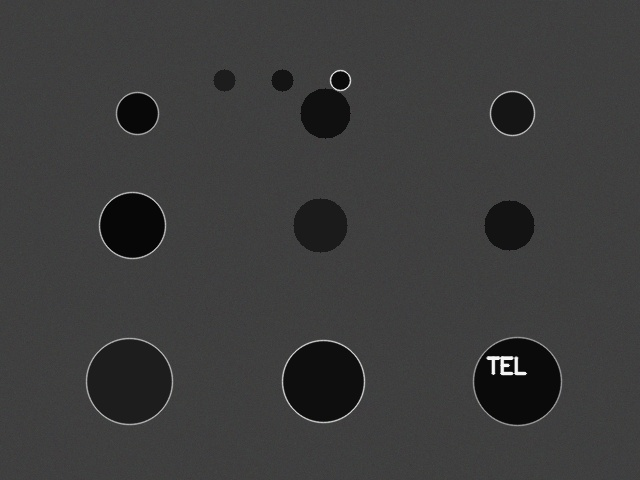hole: (473, 337, 561, 425), (86, 338, 172, 424), (282, 340, 364, 422), (99, 192, 165, 258), (293, 198, 347, 252), (300, 88, 350, 138), (484, 200, 534, 250), (490, 91, 534, 135), (116, 92, 158, 134), (213, 69, 235, 91), (271, 69, 293, 91), (330, 70, 350, 90)
